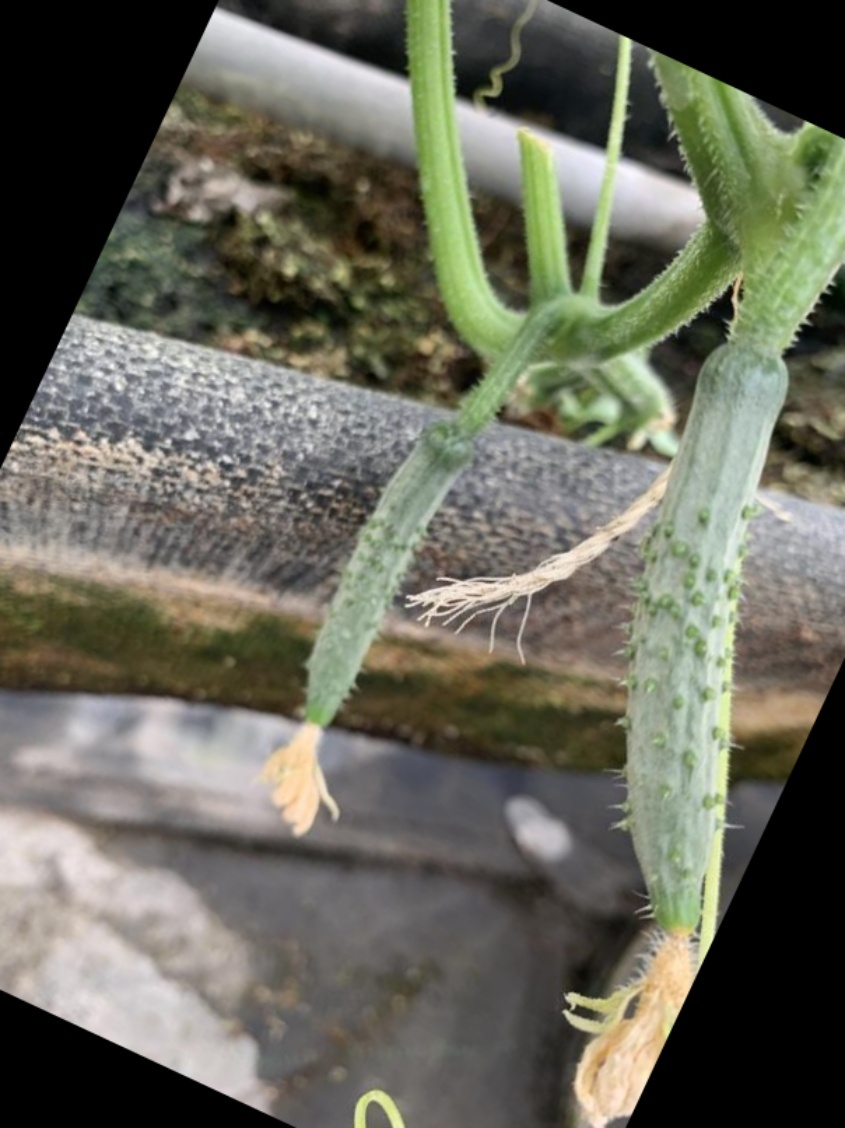growth: (280, 410, 483, 812)
